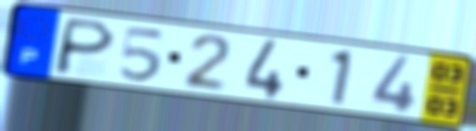1: (326, 48, 356, 108)
2: (183, 33, 234, 92)
4: (369, 53, 419, 115), (244, 37, 287, 103)
5: (116, 24, 169, 83)
P: (49, 15, 119, 78)
